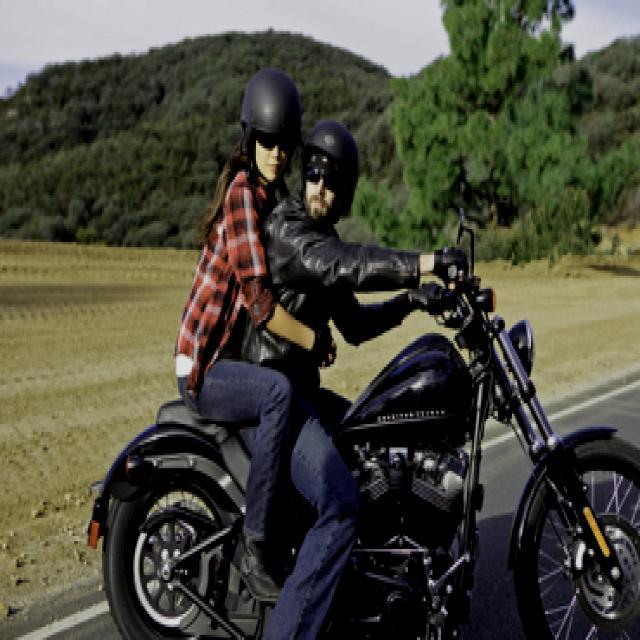Helmet: (296, 114, 365, 242), (242, 65, 299, 182)
